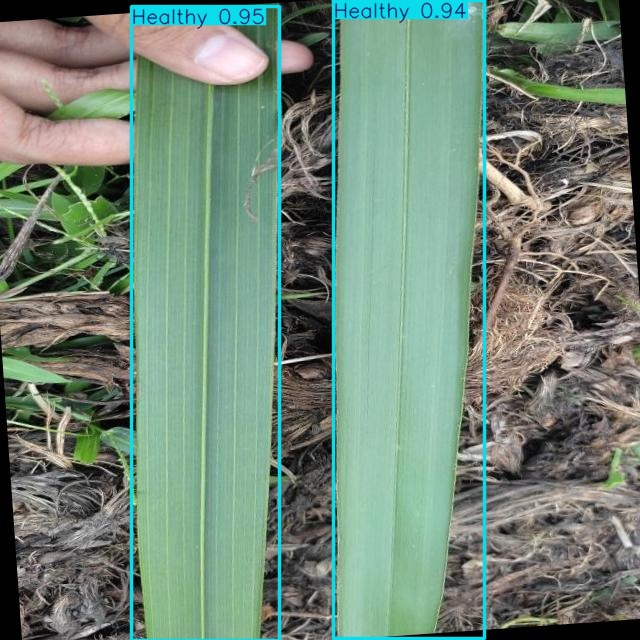Healthy: (334, 0, 485, 639), (132, 7, 279, 640)
